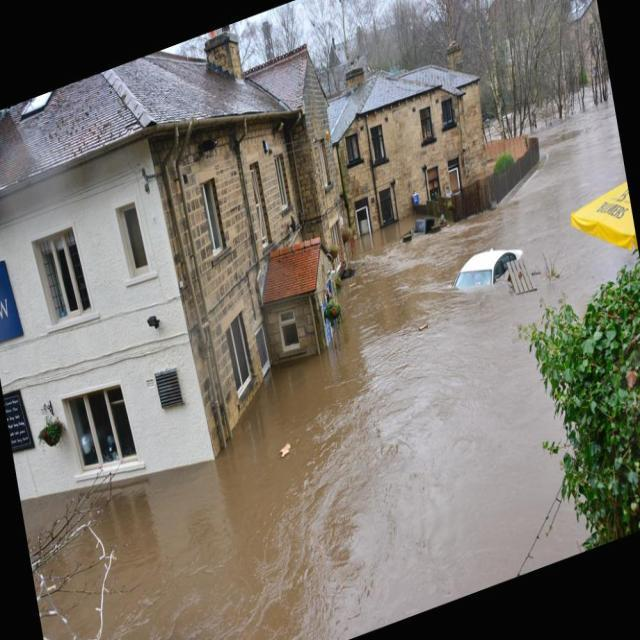flood: (0, 118, 639, 639)
